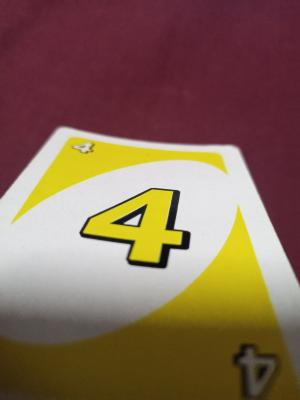num_4: (65, 135, 100, 205)
yellow: (186, 257, 285, 398)
